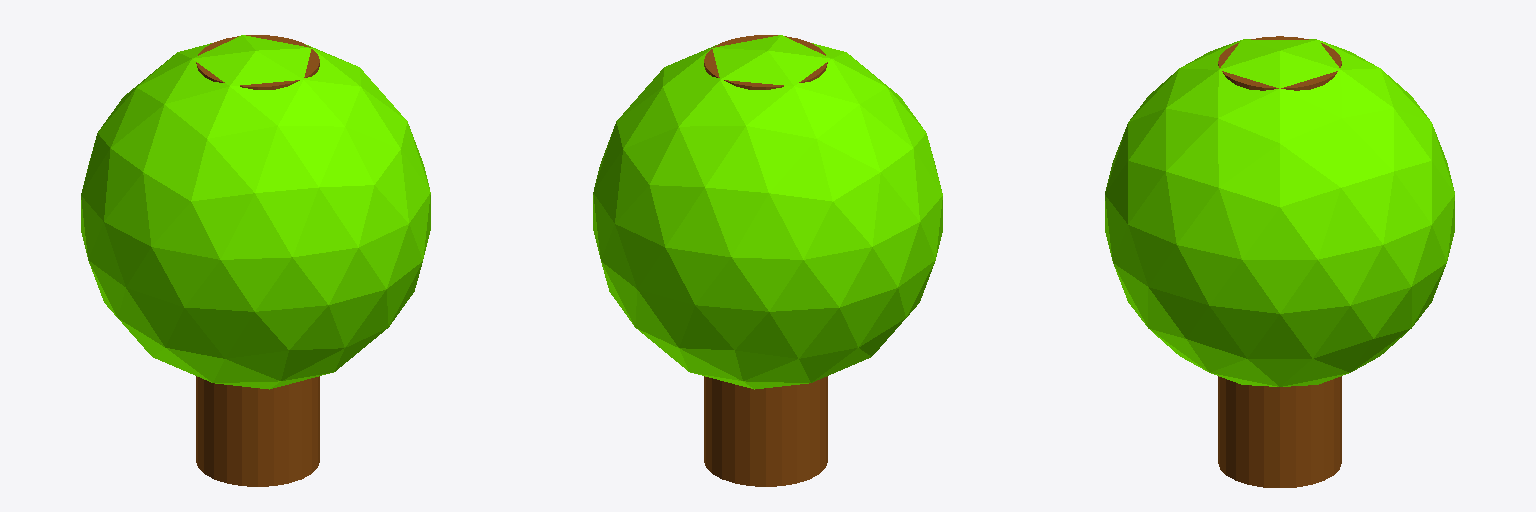
File: Tree.obj
3 views of the same model, side by side, from view 1: azimuth 30°, elevation 25°; view 2: azimuth 150°, elevation 25°; view 3: azimuth 270°, elevation 25° (orthographic).
Visible parts, largest first — view 1: Mesh1 GeodesicSphere02_1 Lollypop_Tree1 Model, Mesh2 Lollypop_Tree1 Model; view 2: Mesh1 GeodesicSphere02_1 Lollypop_Tree1 Model, Mesh2 Lollypop_Tree1 Model; view 3: Mesh1 GeodesicSphere02_1 Lollypop_Tree1 Model, Mesh2 Lollypop_Tree1 Model.
Boxes of the visible parts, x1=… form: Mesh1 GeodesicSphere02_1 Lollypop_Tree1 Model: x1=81, y1=35, x2=430, y2=389; Mesh2 Lollypop_Tree1 Model: x1=196, y1=35, x2=319, y2=486; Mesh1 GeodesicSphere02_1 Lollypop_Tree1 Model: x1=593, y1=35, x2=942, y2=389; Mesh2 Lollypop_Tree1 Model: x1=704, y1=35, x2=827, y2=486; Mesh1 GeodesicSphere02_1 Lollypop_Tree1 Model: x1=1105, y1=39, x2=1454, y2=386; Mesh2 Lollypop_Tree1 Model: x1=1218, y1=36, x2=1341, y2=487.
Size of the model in its own units: 120 by 155 by 120.